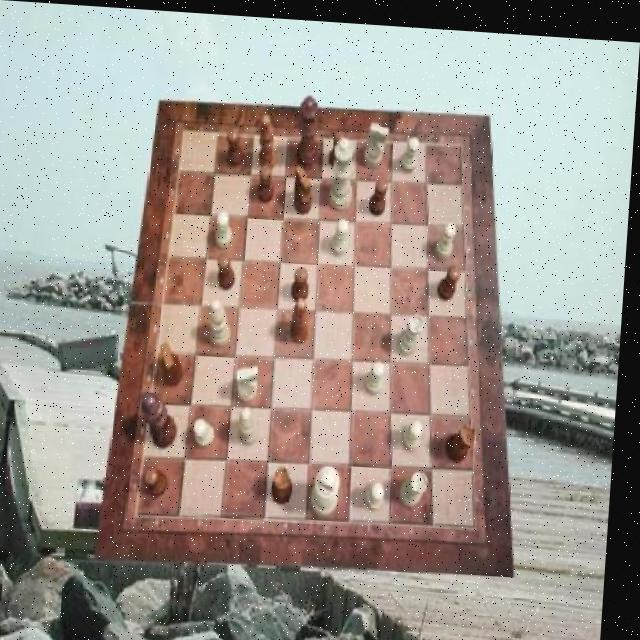bishop: (258, 111, 280, 168), (294, 295, 316, 340)
black-bishop: (145, 388, 185, 447)
black-king: (163, 340, 190, 385), (294, 162, 316, 212)
black-knight: (441, 258, 465, 295), (227, 126, 247, 165), (150, 466, 176, 495), (372, 172, 391, 211), (331, 127, 350, 165), (221, 251, 240, 288), (260, 160, 278, 199), (296, 264, 315, 299)
black-pawn: (297, 91, 323, 167)
black-queen: (450, 417, 482, 457), (278, 462, 301, 501)
black-rook: (212, 297, 238, 345), (244, 403, 267, 442)
white-bishop: (317, 459, 348, 512)
white-king: (367, 118, 392, 163), (240, 360, 265, 399)
white-knight: (439, 216, 461, 254), (368, 356, 390, 391), (334, 213, 353, 252), (407, 413, 430, 445), (402, 131, 421, 168), (219, 208, 237, 244), (199, 416, 221, 445), (372, 478, 393, 507)
white-pawn: (332, 132, 359, 207)
white-queen: (402, 307, 428, 350), (406, 464, 435, 502)
